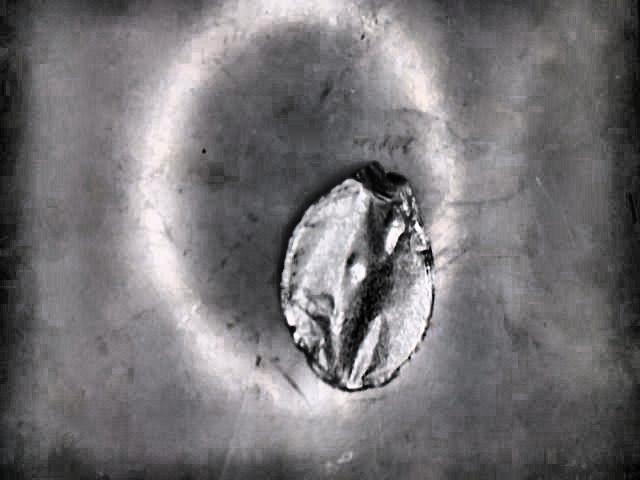Almennt: (281, 163, 437, 389)
